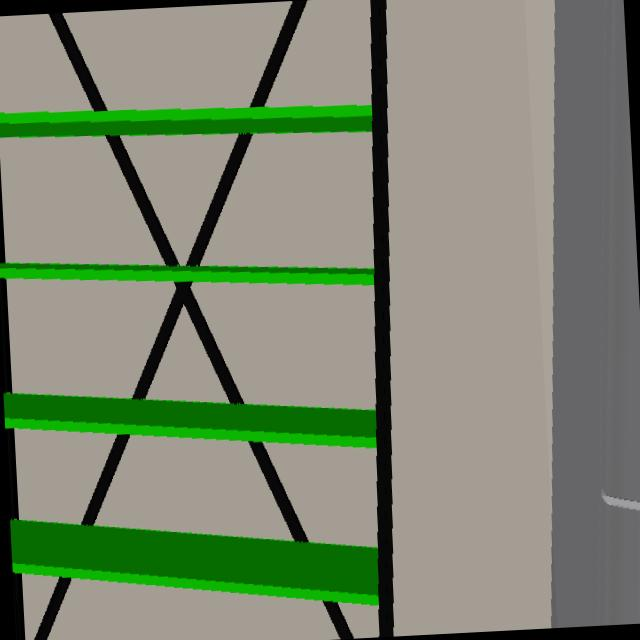fridge: (554, 0, 640, 628)
shelf: (0, 107, 380, 613)
